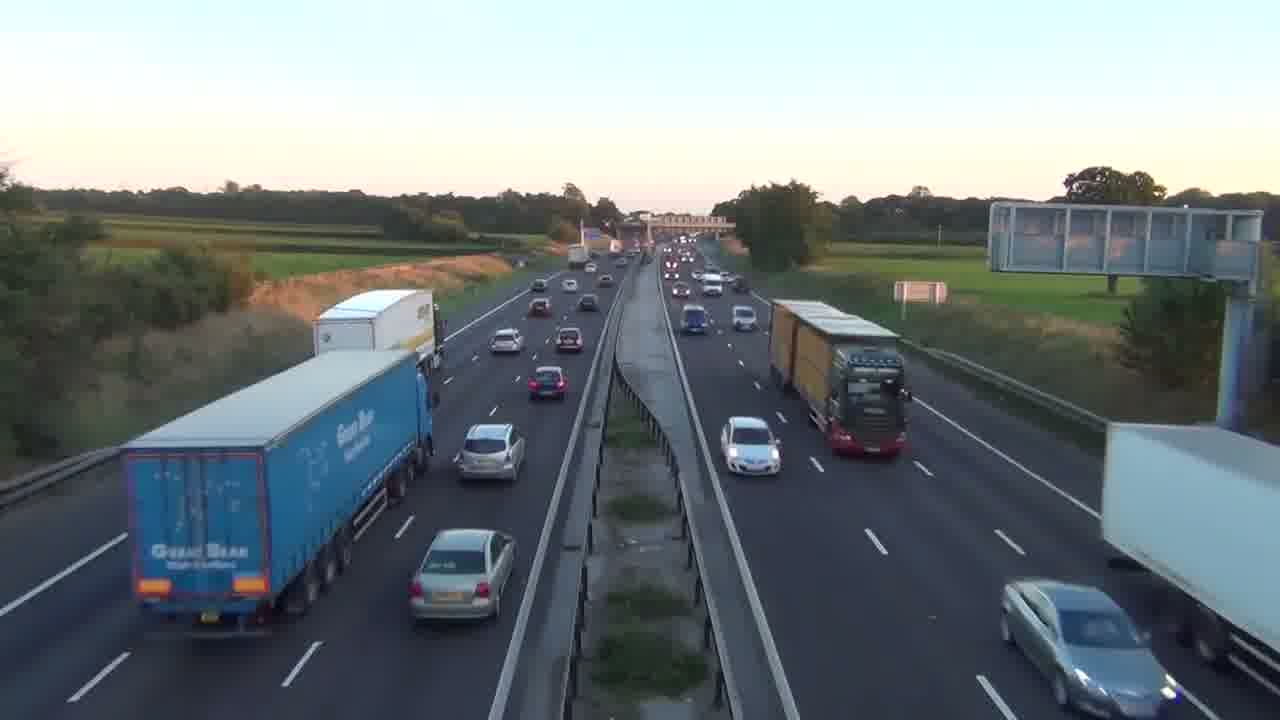car: (1000, 577, 1182, 718), (406, 528, 518, 627), (452, 422, 528, 483), (719, 415, 783, 477), (527, 365, 569, 401), (490, 327, 523, 355), (555, 326, 584, 354), (731, 304, 758, 333), (576, 295, 599, 312)
truck: (126, 345, 434, 630), (1100, 422, 1279, 681), (767, 298, 909, 458), (312, 288, 436, 374)
